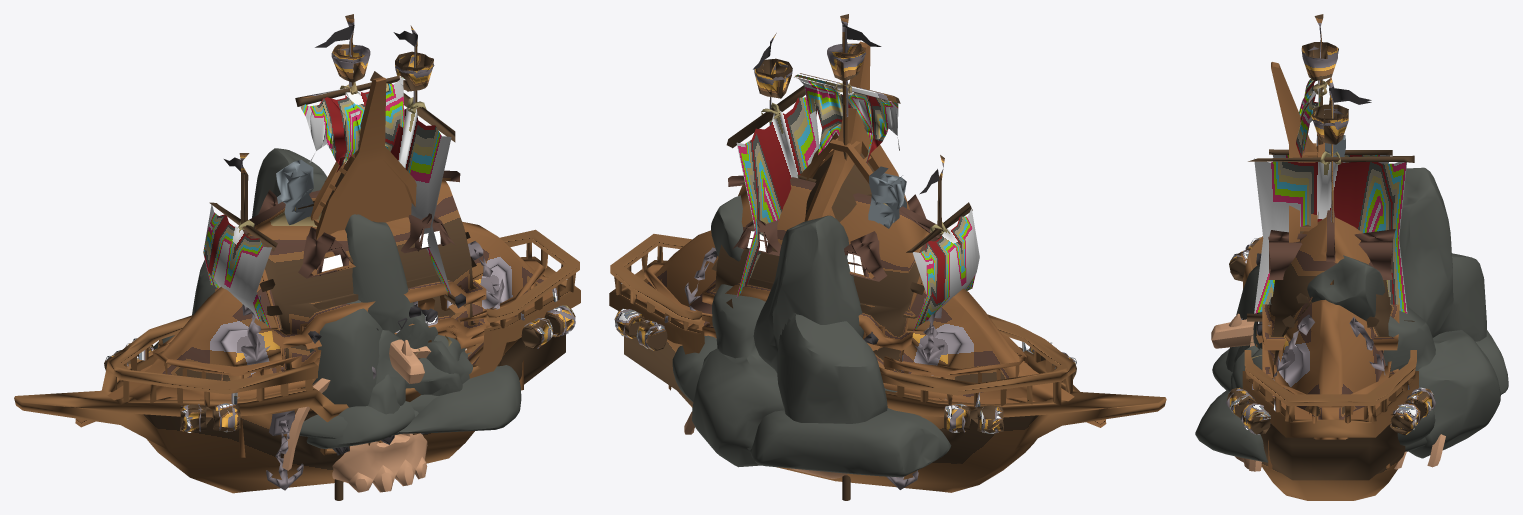
File: island.glb
3 renders of one model, left to right at view 1: azimuth 30°, elevation 25°; view 2: azimuth 150°, elevation 25°; view 3: azimuth 270°, elevation 25°, orthographic.
Parts seen in each view (by area): view 1: ShipLarge, House1, House3, Cliff4, House2, Cliff2, Cliff3, Skulls, Cliff1, LargeBones; view 2: ShipLarge, Cliff2, House1, House3, House2, Cliff4; view 3: ShipLarge, Cliff2, House1, Cliff4, House3, House2, LargeBones, Cliff1, Cliff3.
Boxes of the visible parts, x1=… form: ShipLarge: x1=14, y1=25, x2=580, y2=493; House1: x1=75, y1=159, x2=547, y2=427; House3: x1=237, y1=14, x2=523, y2=457; Cliff4: x1=299, y1=340, x2=521, y2=438; House2: x1=310, y1=77, x2=416, y2=239; Cliff2: x1=153, y1=148, x2=438, y2=412; Cliff3: x1=345, y1=214, x2=438, y2=435; Skulls: x1=332, y1=433, x2=427, y2=492; Cliff1: x1=306, y1=335, x2=465, y2=448; LargeBones: x1=282, y1=339, x2=431, y2=470; ShipLarge: x1=609, y1=33, x2=1166, y2=492; Cliff2: x1=672, y1=215, x2=951, y2=477; House1: x1=643, y1=166, x2=1106, y2=427; House3: x1=668, y1=14, x2=947, y2=401; House2: x1=800, y1=41, x2=909, y2=222; Cliff4: x1=711, y1=195, x2=743, y2=261; ShipLarge: x1=1226, y1=75, x2=1435, y2=500; Cliff2: x1=1236, y1=167, x2=1508, y2=458; House1: x1=1250, y1=135, x2=1399, y2=439; Cliff4: x1=1195, y1=255, x2=1385, y2=462; House3: x1=1256, y1=14, x2=1398, y2=469; House2: x1=1271, y1=62, x2=1324, y2=242; LargeBones: x1=1211, y1=313, x2=1445, y2=471; Cliff1: x1=1212, y1=348, x2=1262, y2=391; Cliff3: x1=1234, y1=306, x2=1427, y2=451.
Bounding box in the file's own units: 15.43 × 12.64 × 7.9.
Materials: 2 (1 with a texture image).
